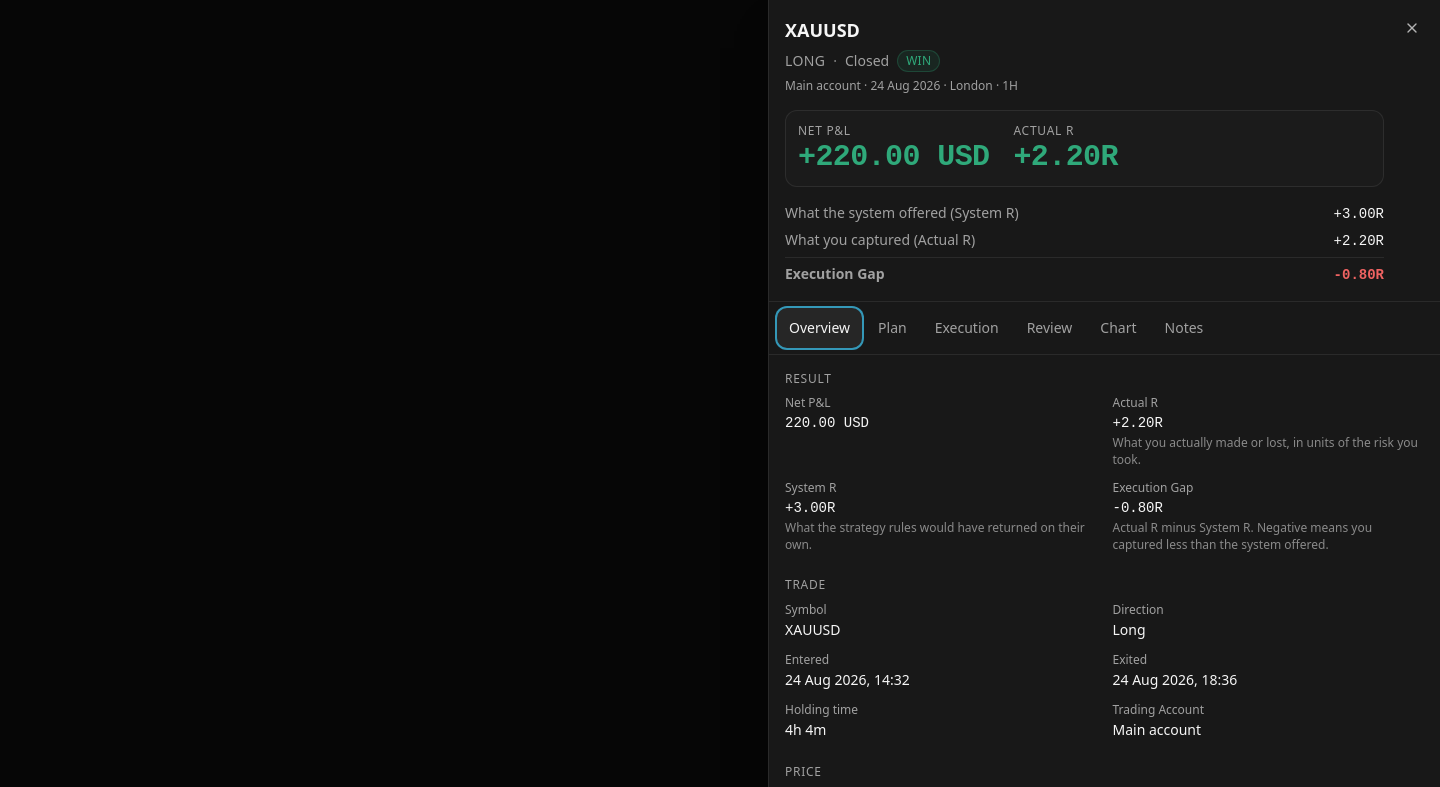
Scenario: Trade Details — Execution › builds a timeline only from recorded events
The image size is (1440, 787).
Click the tab "Execution" at (967, 328), box left=923, top=308, right=1011, bottom=348
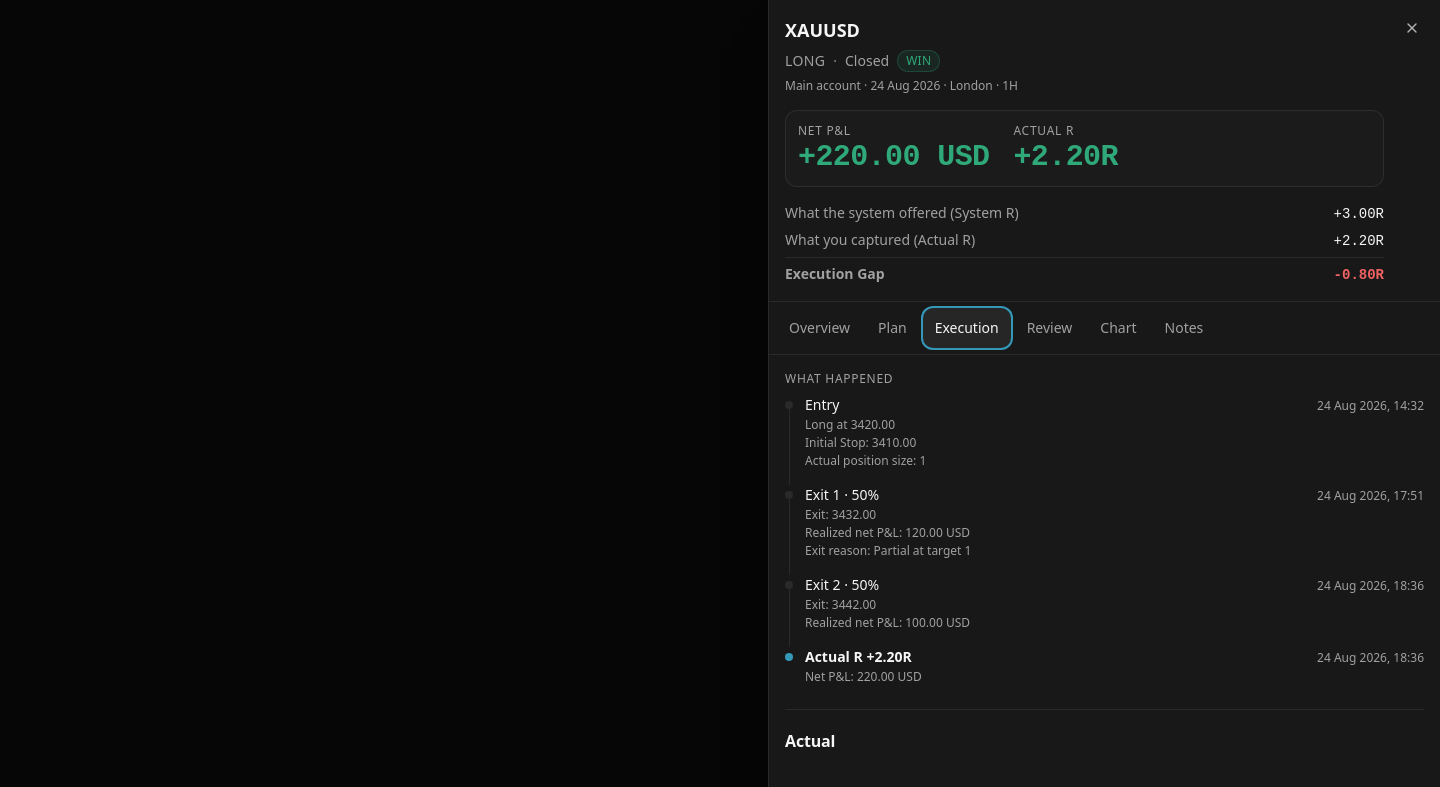
Expected: the text "Entry" is shown, left=805, top=395, right=839, bottom=415
Now the text "Exit 1 · 50%" is shown, box left=805, top=485, right=879, bottom=505
Now the text "Exit 2 · 50%" is shown, box left=805, top=575, right=879, bottom=595
